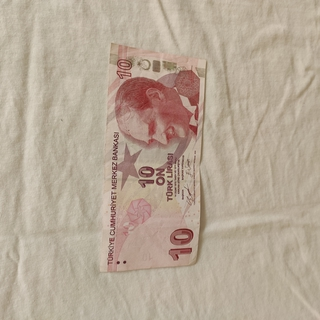10TLFront: (97, 41, 207, 273)
